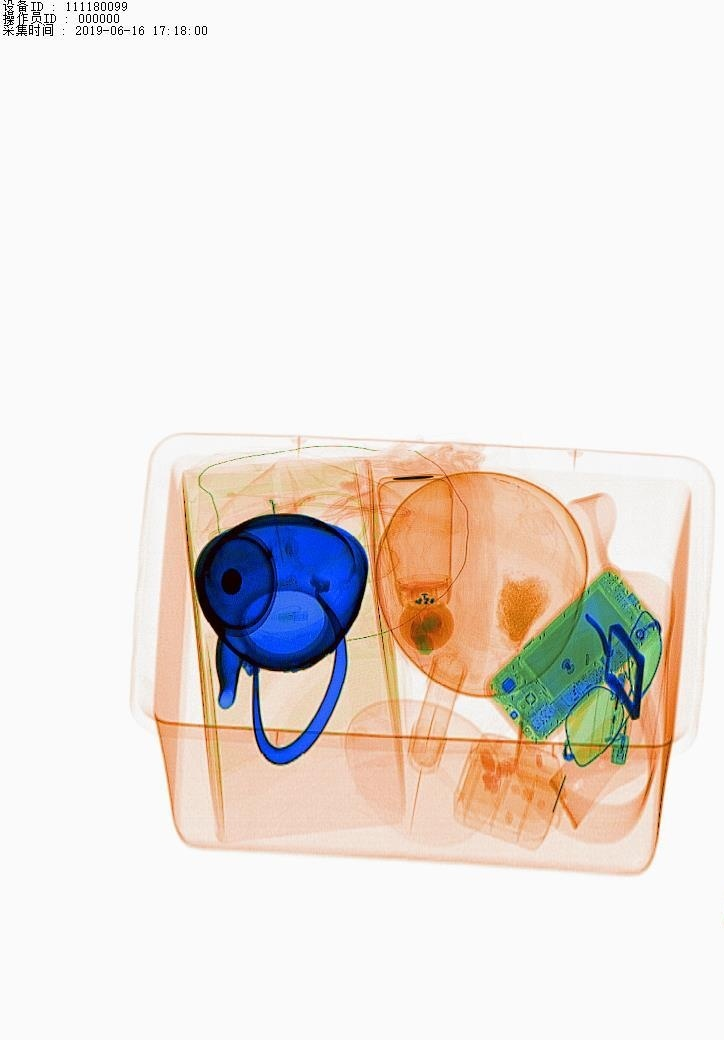NonmetallicFire: (595, 643, 649, 784)
